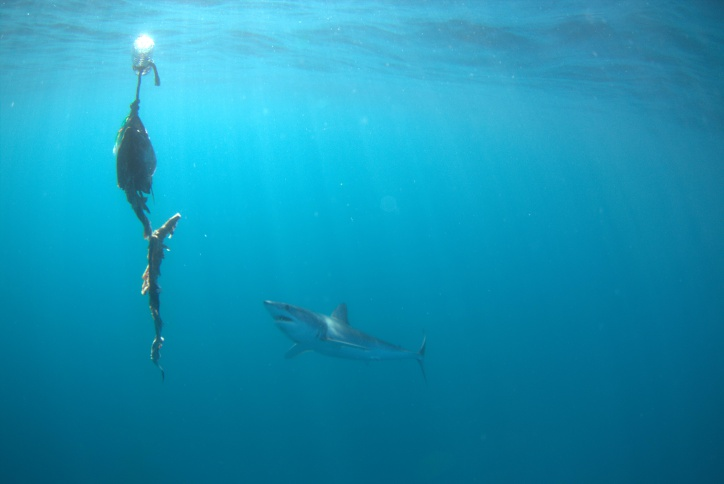Mako: (258, 270, 455, 399)
